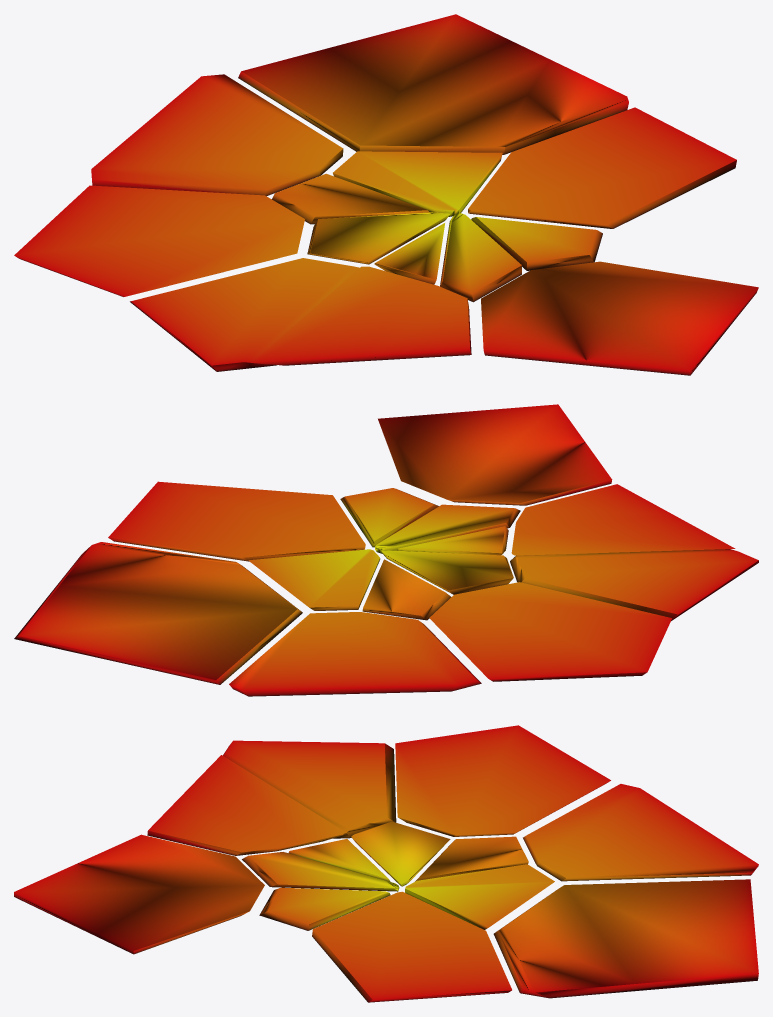
Rendered from land.FBX.
3 renders of one model, top to bottom at view 1: azimuth 30°, elevation 25°; view 2: azimuth 150°, elevation 25°; view 3: azimuth 270°, elevation 25°, orthographic. The views are drawn at different scales.
Parts seen in each view (by area): view 1: Box001; view 2: Box001; view 3: Box001.
Part boxes in pixels (x1,y1,x2,y2): Box001: (14,14,758,375); Box001: (14,404,758,696); Box001: (14,725,758,1002).
Bounding box in the file's own units: 66.29 × 0.5142 × 76.
